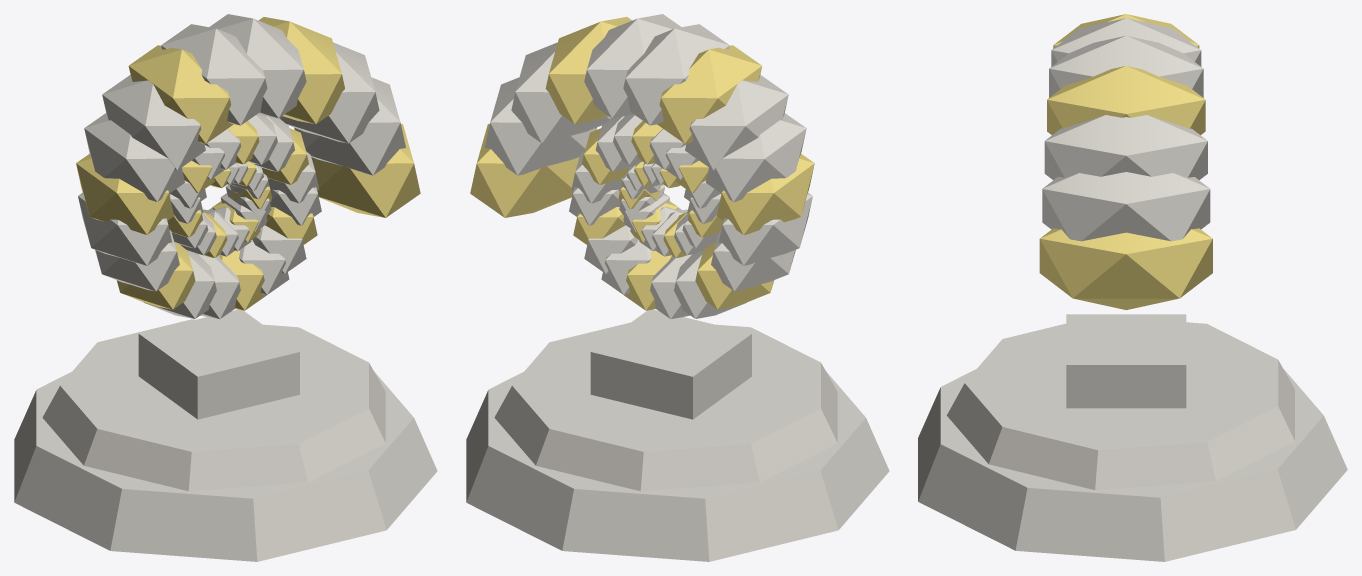
Rendered from HistoriaNatural_Torre.fbx.
3 views of the same model, side by side, from view 1: azimuth 30°, elevation 25°; view 2: azimuth 150°, elevation 25°; view 3: azimuth 270°, elevation 25° (orthographic).
Parts seen in each view (by area): view 1: HistoriaNatural_Torre; view 2: HistoriaNatural_Torre; view 3: HistoriaNatural_Torre.
Boxes of the visible parts, left/top/right/bottom form: HistoriaNatural_Torre: left=14, top=14, right=437, bottom=561; HistoriaNatural_Torre: left=466, top=14, right=889, bottom=561; HistoriaNatural_Torre: left=918, top=14, right=1347, bottom=561.
Bounding box in the file's own units: 0.7288 × 0.831 × 0.7177.
